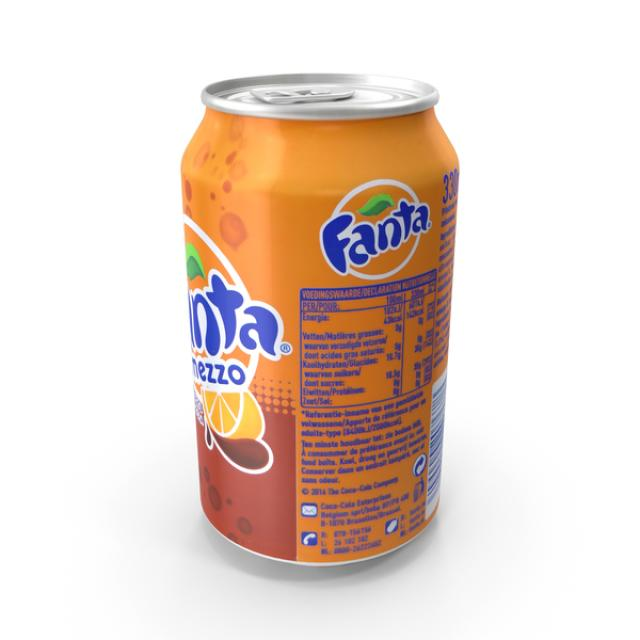fanta: (176, 70, 458, 571)
